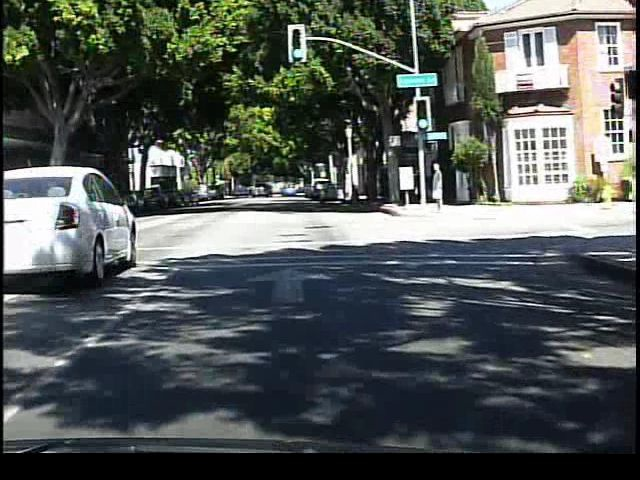person: (428, 158, 449, 216)
